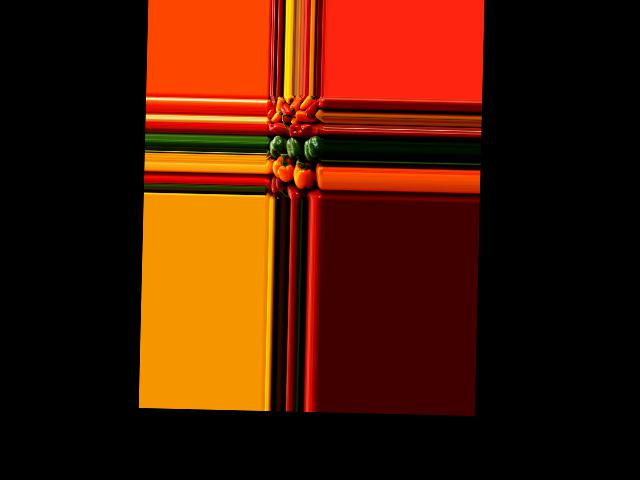bell_pepper: (304, 98, 320, 117)
